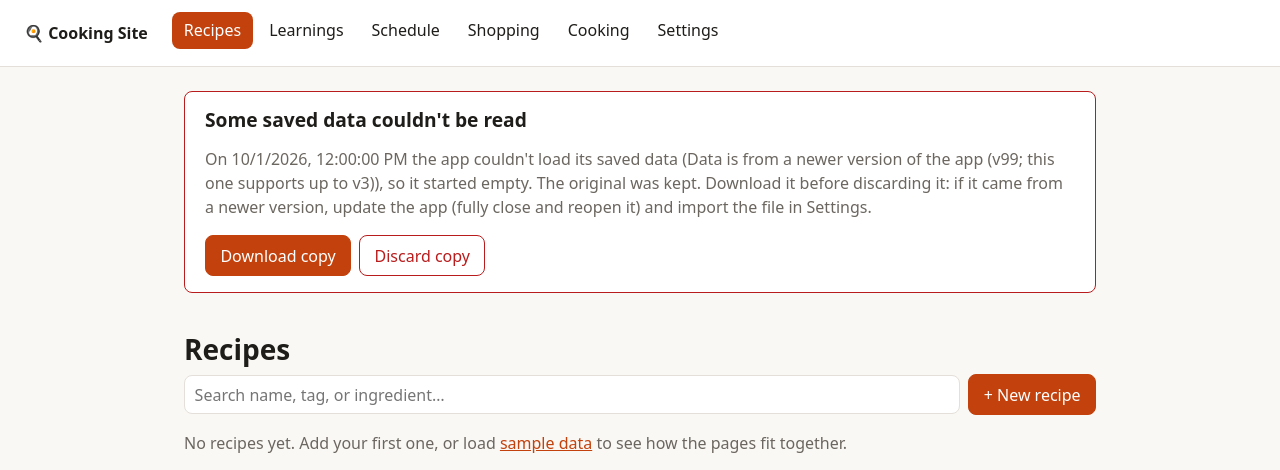
Unreadable saved data › warns, offers the original for download, and only discards it after confirming
Expected: the text "newer version" is shown, [205,148,1055,194]
What coordinates should you click on to do the following:
click the button "Download copy"
I would click on:
 (278, 256)
Its box is [205,235,351,276].
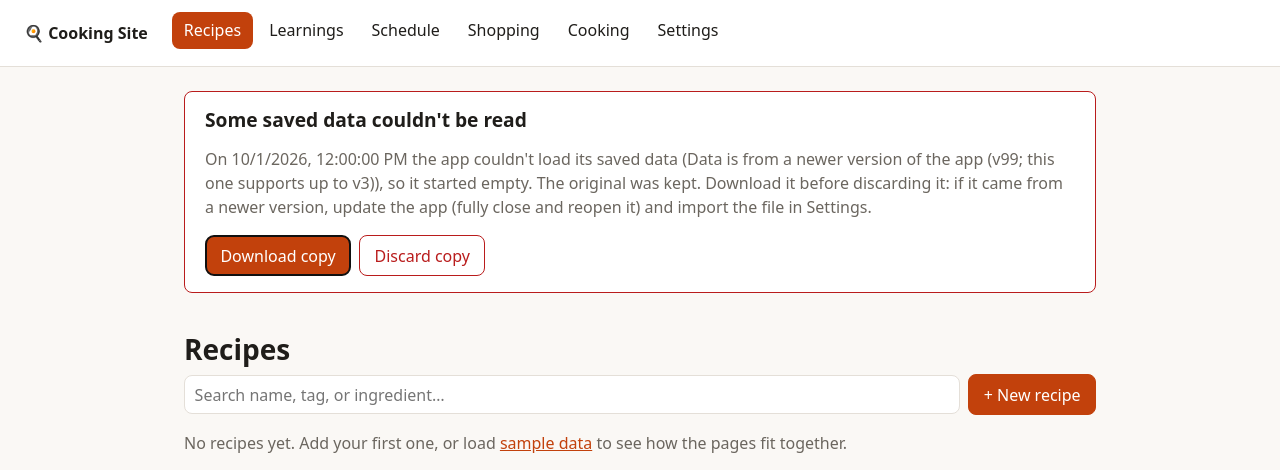
What coordinates should you click on to do the following:
click the button "Discard copy"
I would click on:
 (422, 256)
Its box is [359,235,485,276].
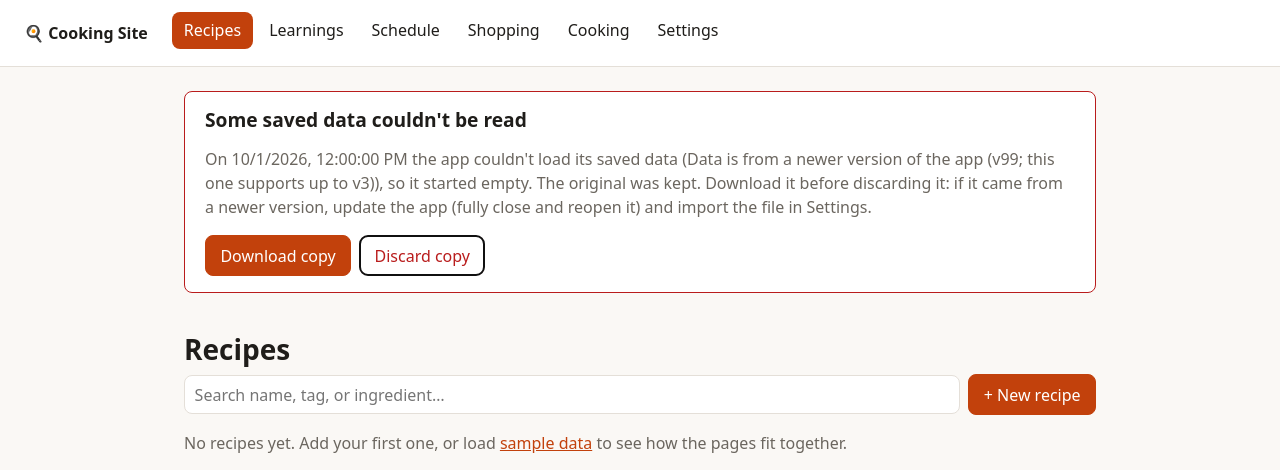
Expected: the message is shown, [184,91,1096,293]
What coordinates should you click on to do the following:
click the button "Discard copy"
I would click on:
 (422, 256)
Its box is [359,235,485,276].
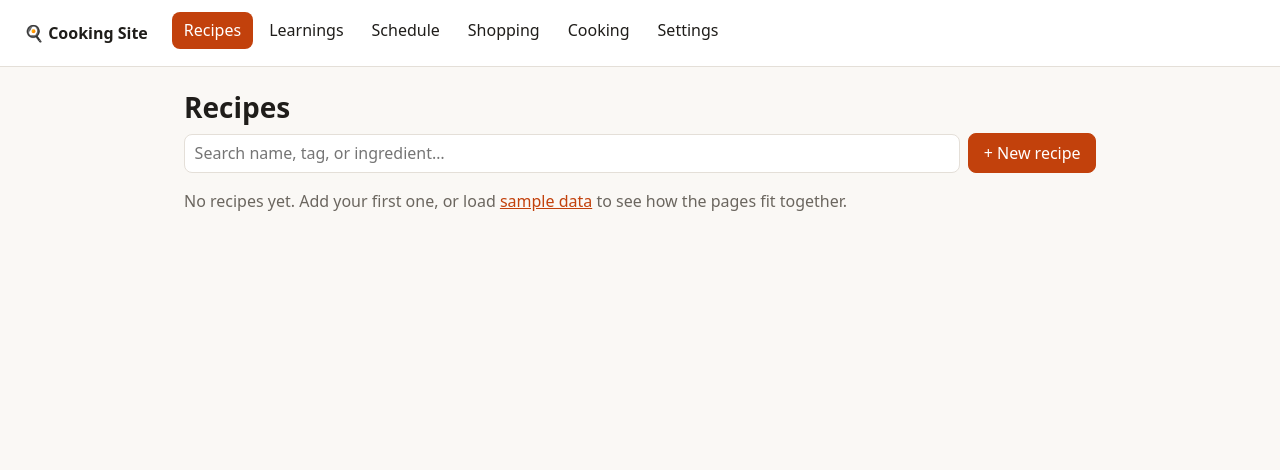
Expected: the message is gone
